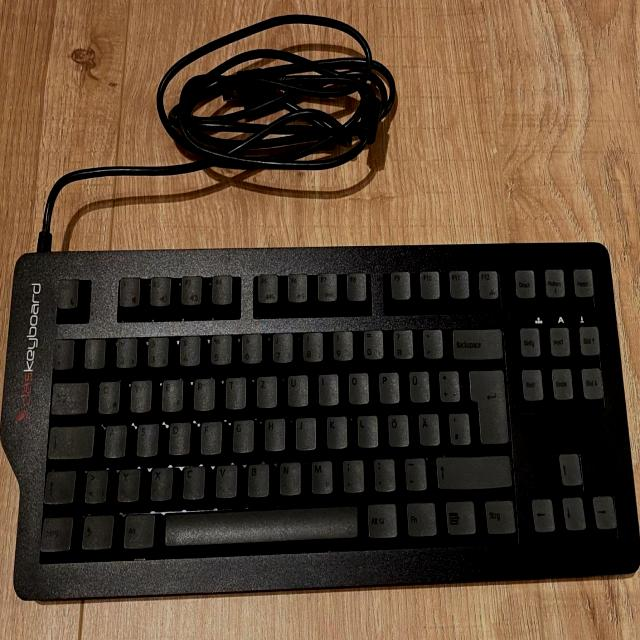0: (361, 327, 383, 360)
1: (83, 335, 105, 368)
2: (115, 335, 138, 367)
3: (146, 333, 168, 367)
4: (178, 334, 201, 366)
5: (210, 332, 232, 365)
6: (240, 331, 262, 363)
7: (271, 330, 293, 362)
8: (301, 329, 323, 361)
9: (331, 328, 353, 360)
a: (102, 422, 126, 458)
accent: (421, 326, 443, 358)
ae: (417, 411, 440, 446)
alt-left: (121, 509, 155, 548)
altgr-right: (365, 500, 397, 538)
b: (245, 460, 269, 496)
c: (181, 463, 205, 499)
caret: (50, 337, 74, 369)
comma: (340, 457, 364, 493)
d: (168, 421, 191, 457)
del: (450, 326, 502, 360)
e: (160, 377, 183, 411)
enter: (467, 365, 508, 444)
f: (199, 418, 222, 454)
g: (230, 417, 254, 453)
h: (262, 416, 286, 451)
hash: (446, 410, 470, 445)
i: (317, 371, 339, 405)
j: (294, 414, 317, 450)
k: (324, 413, 347, 448)
keyboard: (20, 250, 638, 598)
l: (355, 412, 377, 447)
less: (83, 466, 107, 502)
m: (308, 458, 332, 494)
minus: (402, 455, 426, 491)
n: (277, 460, 301, 495)
o: (346, 370, 369, 404)
oe: (386, 411, 409, 447)
p: (377, 369, 399, 403)
plus: (438, 368, 460, 403)
point: (371, 456, 395, 491)
q: (97, 378, 120, 413)
r: (192, 375, 215, 410)
s: (135, 421, 158, 457)
shift-left: (42, 468, 76, 504)
shift-lock: (47, 422, 95, 458)
shift-right: (435, 452, 511, 488)
space: (162, 504, 360, 548)
ss: (391, 327, 413, 359)
strg-left: (39, 513, 73, 551)
strg-right: (482, 497, 516, 535)
t: (225, 376, 247, 410)
tab: (49, 380, 89, 414)
u: (286, 372, 308, 406)
ue: (408, 367, 430, 403)
v: (213, 462, 237, 498)
w: (129, 379, 152, 413)
x: (148, 464, 172, 500)
y: (116, 466, 140, 501)
z: (255, 373, 277, 407)
